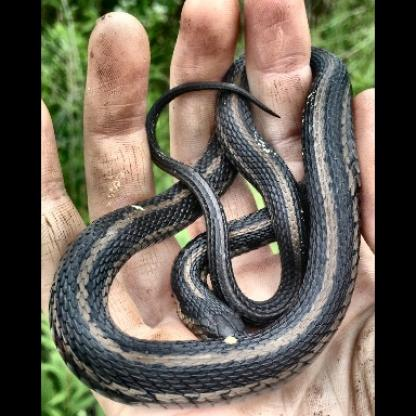Snake: (56, 51, 358, 402)
